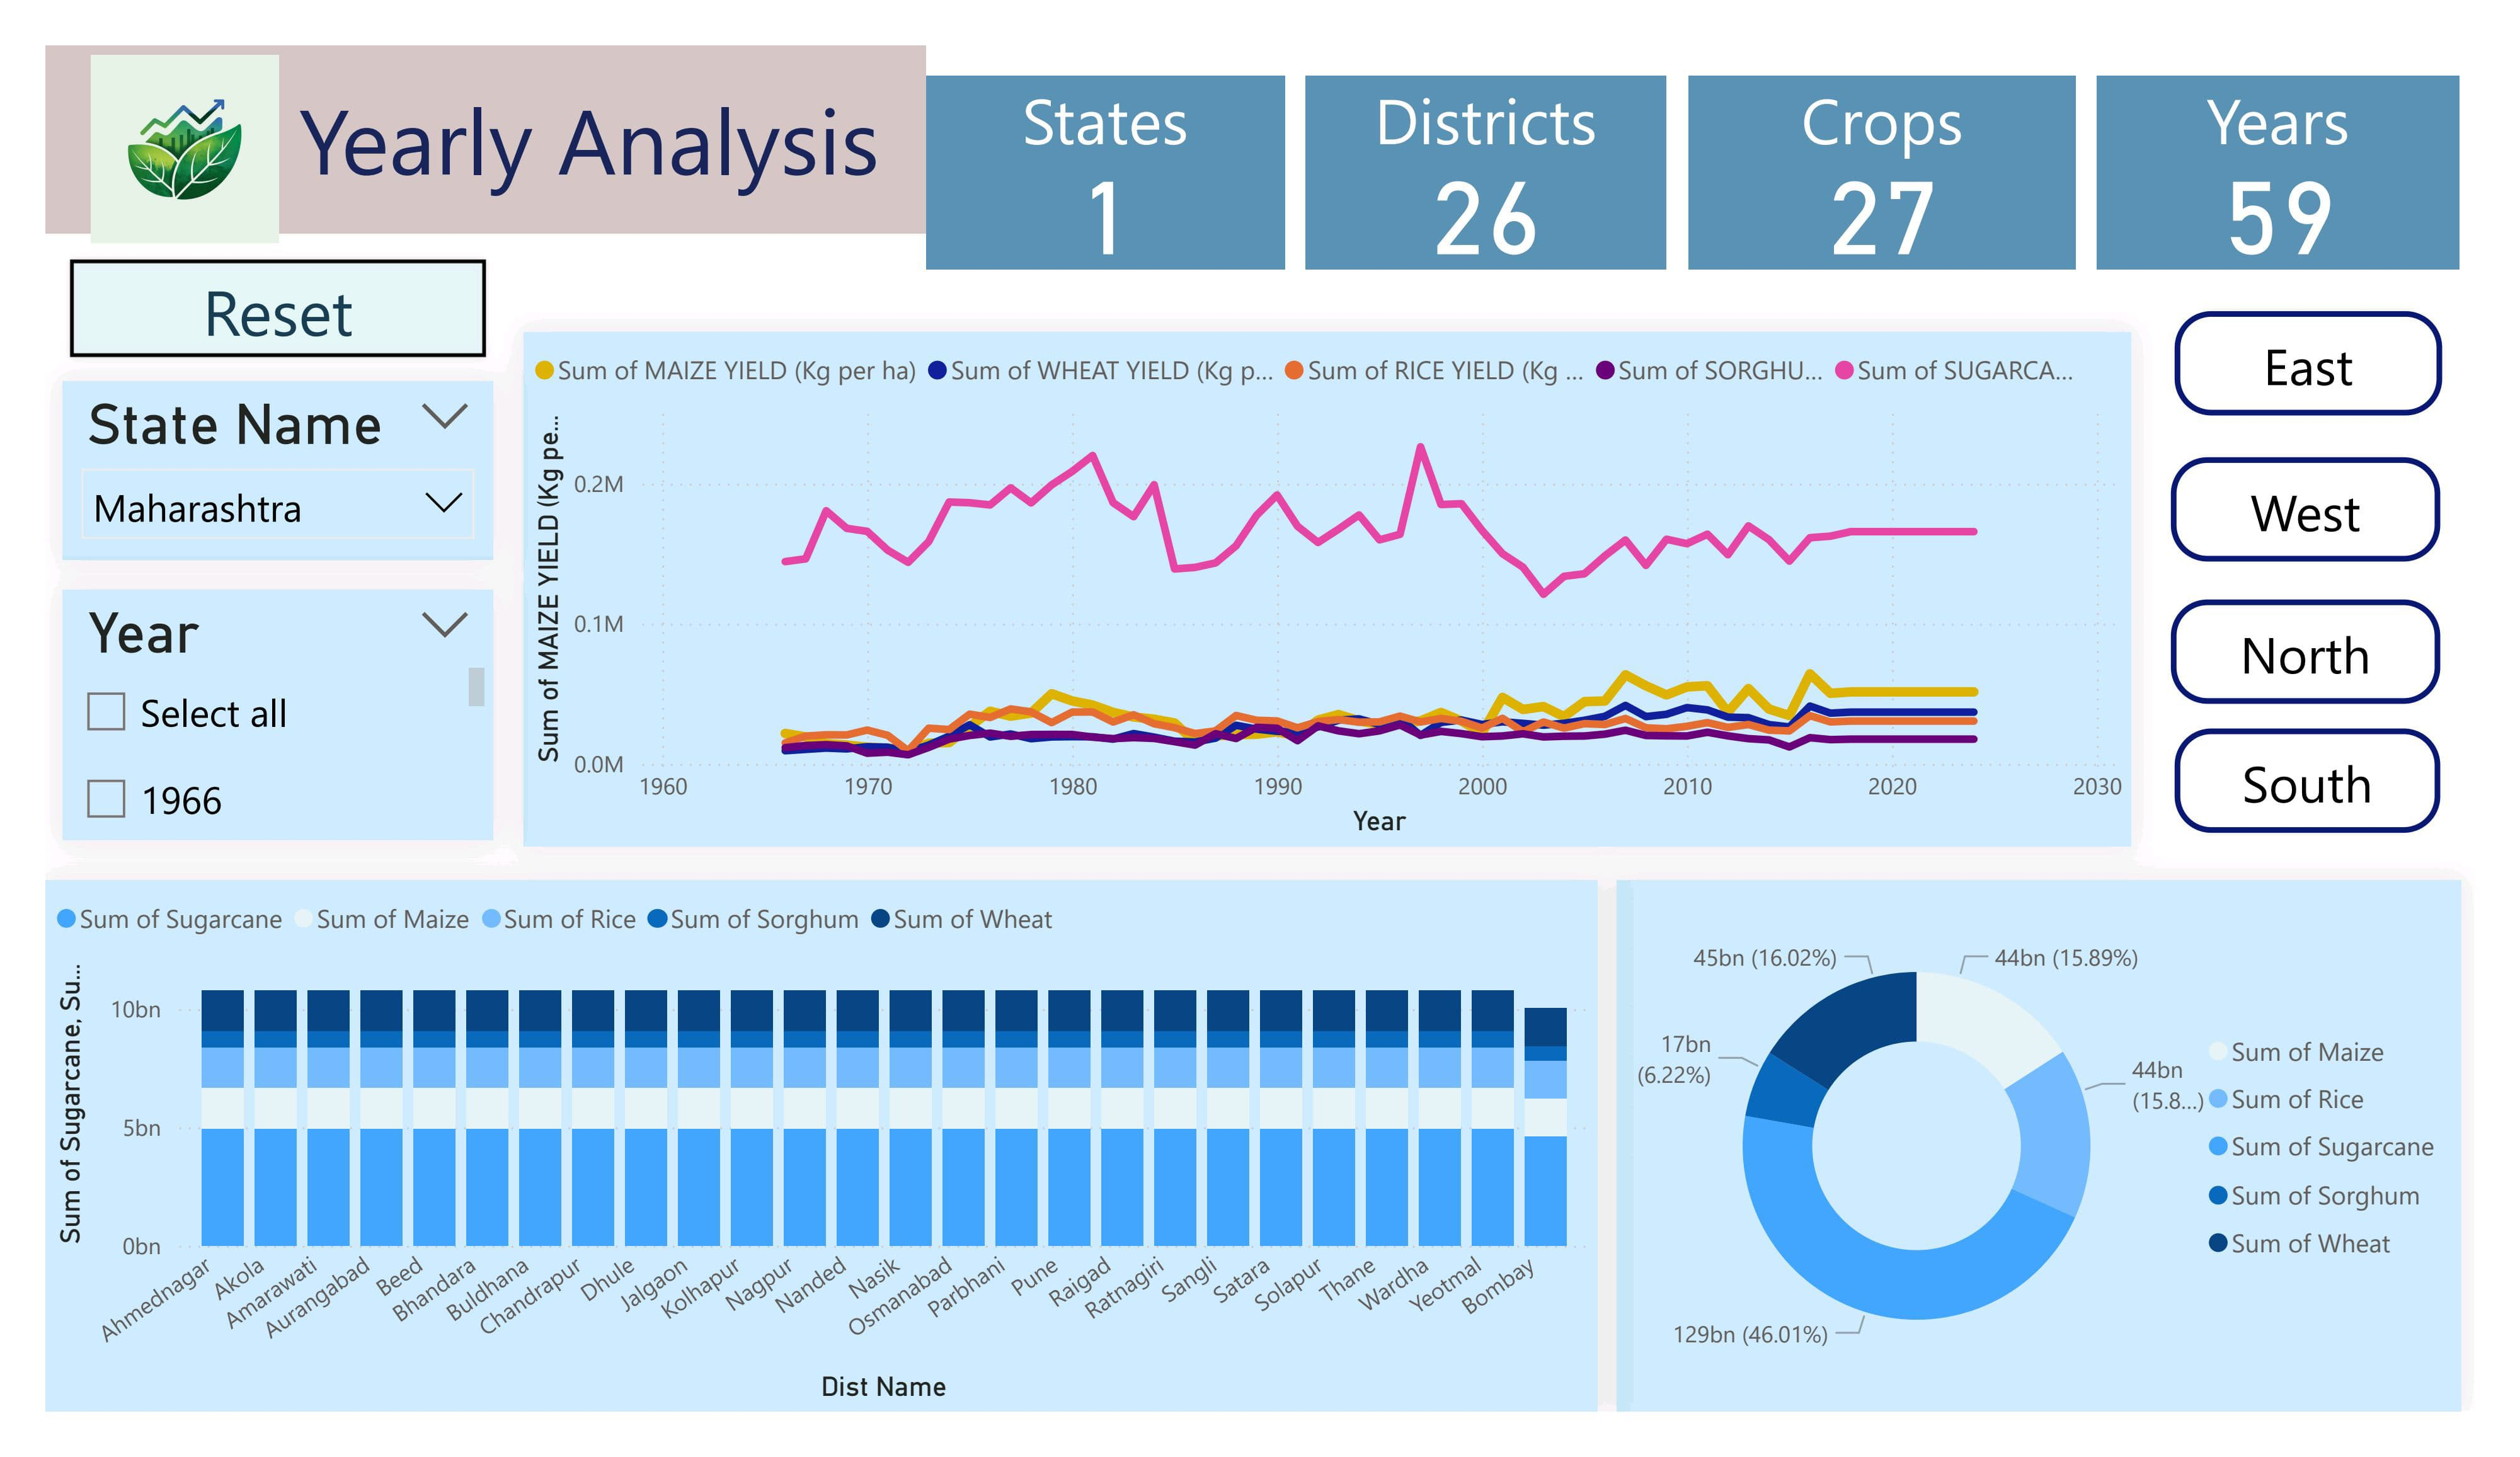

Layout of this report page (visuals, bound fields, positions):
{"tool":"powerbi","page":{"name":"Page 2","canvas":[1280,720],"ordinal":1},"visuals":[{"type":"lineChart","fields":{"Category":["ICRISAT-District-Level-Data-Updated-2024.Year"],"Y":["Sum(ICRISAT-District-Level-Data-Updated-2024.MAIZE YIELD (Kg per ha))","Sum(ICRISAT-District-Level-Data-Updated-2024.WHEAT YIELD (Kg per ha))","Sum(ICRISAT-District-Level-Data-Updated-2024.RICE YIELD (Kg per ha))","Sum(ICRISAT-District-Level-Data-Updated-2024.SORGHUM YIELD (Kg per ha))","Sum(ICRISAT-District-Level-Data-Updated-2024.SUGARCANE YIELD (Kg per ha))"]},"box":[252,151.2,846.7,270.7],"z":0},{"type":"textbox","box":[0,0,463.7,99.4],"z":1000},{"type":"card","title":"States","fields":{"Values":["Count(ICRISAT-District-Level-Data-Updated-2024.State Name)"]},"box":[464,15.8,189.4,102.6],"z":2000},{"type":"card","title":"Districts","fields":{"Values":["Count(ICRISAT-District-Level-Data-Updated-2024.Dist Name)"]},"box":[664.5,15.8,189.4,102.6],"z":3000},{"type":"card","title":"Crops","fields":{"Values":["Avg(ICRISAT-District-Level-Data-Updated-2024.Crops)"]},"box":[866.5,15.8,203.6,102.6],"z":4000},{"type":"card","title":"Years","fields":{"Values":["Count(EAST.Year)"]},"box":[1081.1,15.8,191,102.6],"z":5000},{"type":"donutChart","fields":{"Y":["Sum(ICRISAT-District-Level-Data-Updated-2024.Maize)","Sum(ICRISAT-District-Level-Data-Updated-2024.Rice)","Sum(ICRISAT-District-Level-Data-Updated-2024.Sugarcane)","Sum(ICRISAT-District-Level-Data-Updated-2024.Sorghum)","Sum(ICRISAT-District-Level-Data-Updated-2024.Wheat)"]},"box":[828.3,440,445,280],"z":6000},{"type":"slicer","fields":{"Values":["ICRISAT-District-Level-Data-Updated-2024.State Name"]},"box":[8.6,177.1,227.5,93.6],"z":7000},{"type":"slicer","fields":{"Values":["ICRISAT-District-Level-Data-Updated-2024.Year"]},"box":[8.6,286.6,227.5,132.5],"z":8000},{"type":"columnChart","fields":{"Category":["ICRISAT-District-Level-Data-Updated-2024.Dist Name"],"Y":["Sum(ICRISAT-District-Level-Data-Updated-2024.Sugarcane)","Sum(ICRISAT-District-Level-Data-Updated-2024.Maize)","Sum(ICRISAT-District-Level-Data-Updated-2024.Rice)","Sum(ICRISAT-District-Level-Data-Updated-2024.Sorghum)","Sum(ICRISAT-District-Level-Data-Updated-2024.Wheat)"]},"box":[0,440,818.3,280],"z":9000},{"type":"actionButton","box":[1121.7,140,141.7,55],"z":10000},{"type":"actionButton","title":"West","box":[1120,216.7,141.7,55],"z":11000},{"type":"actionButton","box":[1120,291.7,141.7,55],"z":12000},{"type":"actionButton","box":[1121.7,360,140,55],"z":13000},{"type":"actionButton","box":[8.6,109.4,227.5,59],"z":14000},{"type":"image","box":[14.4,0,118.1,109.4],"z":14001}]}

Visuals, with their boxes in screenshot pixels (x1, y1, x2, y2), scaled from the page's 1280x720 canvas onto the 2520x1457 screenshot:
lineChart - ICRISAT-District-Level-Data-Updated-2024.Year x Sum(ICRISAT-District-Level-Data-Updated-2024.MAIZE YIELD (Kg per ha)): l=496, t=306, r=2163, b=854
textbox: l=0, t=0, r=913, b=201
"States" card: l=913, t=32, r=1286, b=239
"Districts" card: l=1309, t=32, r=1681, b=239
"Crops" card: l=1706, t=32, r=2107, b=239
"Years" card: l=2128, t=32, r=2504, b=239
donutChart - Sum(ICRISAT-District-Level-Data-Updated-2024.Maize) x Sum(ICRISAT-District-Level-Data-Updated-2024.Rice): l=1630, t=891, r=2507, b=1456
slicer - ICRISAT-District-Level-Data-Updated-2024.State Name: l=17, t=358, r=465, b=548
slicer - ICRISAT-District-Level-Data-Updated-2024.Year: l=17, t=580, r=465, b=848
columnChart - ICRISAT-District-Level-Data-Updated-2024.Dist Name x Sum(ICRISAT-District-Level-Data-Updated-2024.Sugarcane): l=0, t=891, r=1611, b=1456
actionButton: l=2208, t=283, r=2487, b=394
"West" actionButton: l=2205, t=438, r=2484, b=550
actionButton: l=2205, t=590, r=2484, b=702
actionButton: l=2208, t=728, r=2484, b=840
actionButton: l=17, t=221, r=465, b=341
image: l=28, t=0, r=261, b=221
